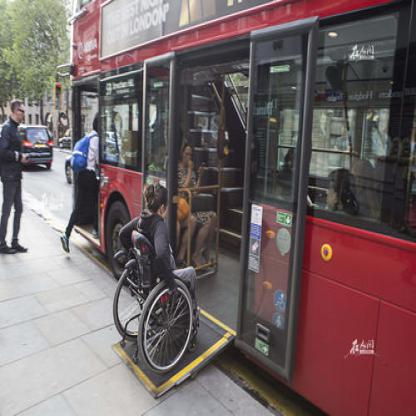wheelchair: (114, 183, 204, 370)
